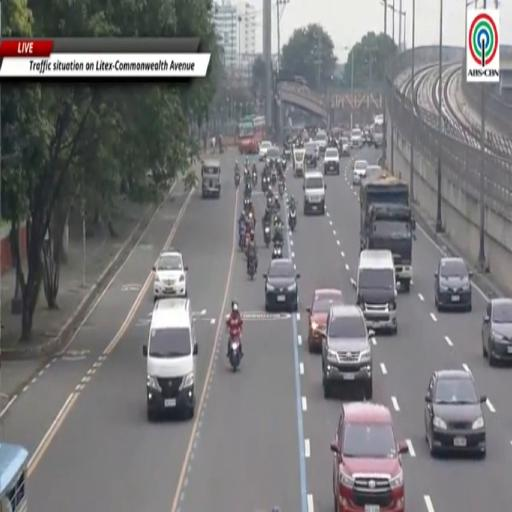bus: (0, 443, 28, 511), (237, 116, 264, 154)
car: (331, 403, 408, 511), (425, 370, 486, 457), (322, 304, 374, 399), (307, 288, 343, 353), (435, 258, 472, 311), (482, 298, 511, 365), (264, 259, 300, 311), (153, 249, 187, 300), (303, 171, 326, 215), (324, 148, 339, 174), (353, 160, 368, 185), (304, 142, 318, 167), (266, 147, 281, 167), (371, 124, 383, 148), (259, 141, 272, 161), (366, 165, 383, 180), (315, 133, 327, 153), (351, 128, 362, 148), (340, 137, 350, 156), (362, 128, 371, 146)
jeepney: (201, 159, 221, 198), (293, 149, 305, 177)
motorcycle: (229, 339, 241, 371), (248, 256, 255, 280), (272, 244, 282, 260), (289, 210, 296, 231), (239, 229, 245, 251), (244, 198, 252, 214), (264, 226, 270, 247), (278, 182, 285, 198), (249, 212, 255, 230), (262, 175, 268, 193), (234, 173, 240, 188), (267, 196, 273, 210), (271, 170, 276, 186), (252, 171, 257, 186), (282, 157, 287, 169), (285, 149, 290, 159)
truck: (360, 171, 416, 292)
